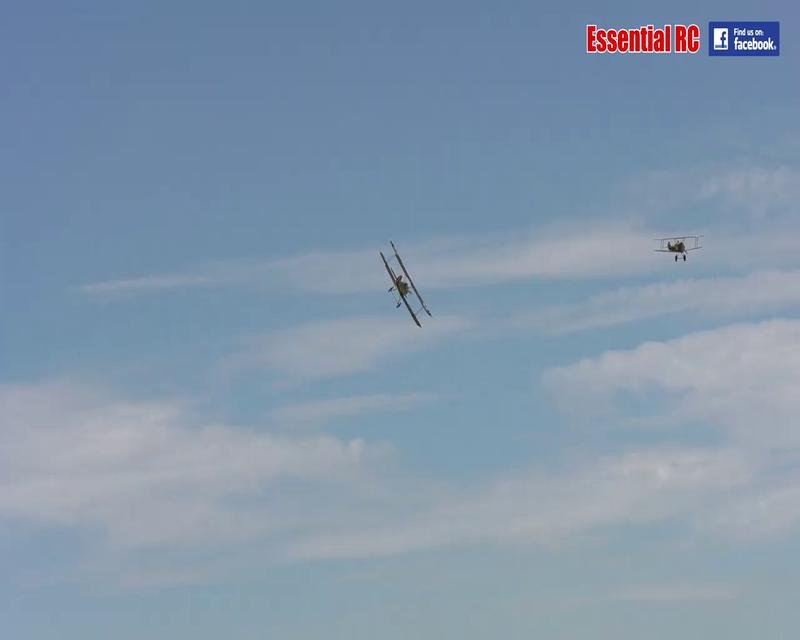UAV: (379, 239, 434, 328), (585, 22, 701, 54), (652, 232, 704, 262)
